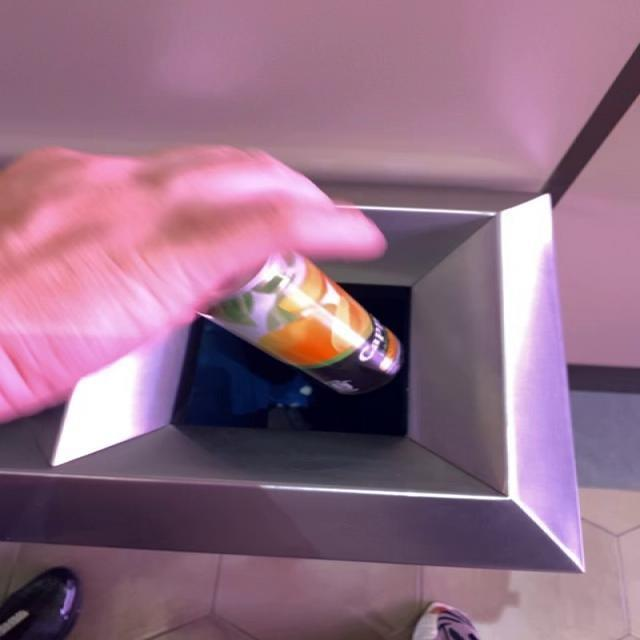Bin: (3, 185, 581, 572)
Metal: (204, 254, 400, 394)
